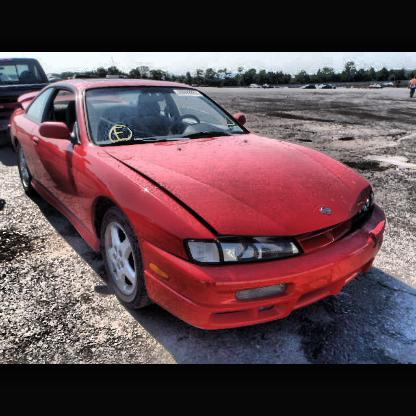Nissan 240SX Coupe 1998: (12, 80, 388, 333)
